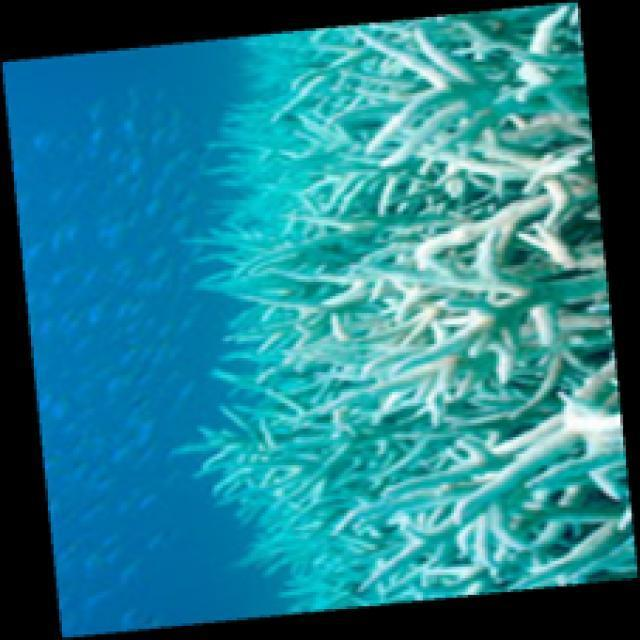Bleached: (286, 1, 640, 615)
